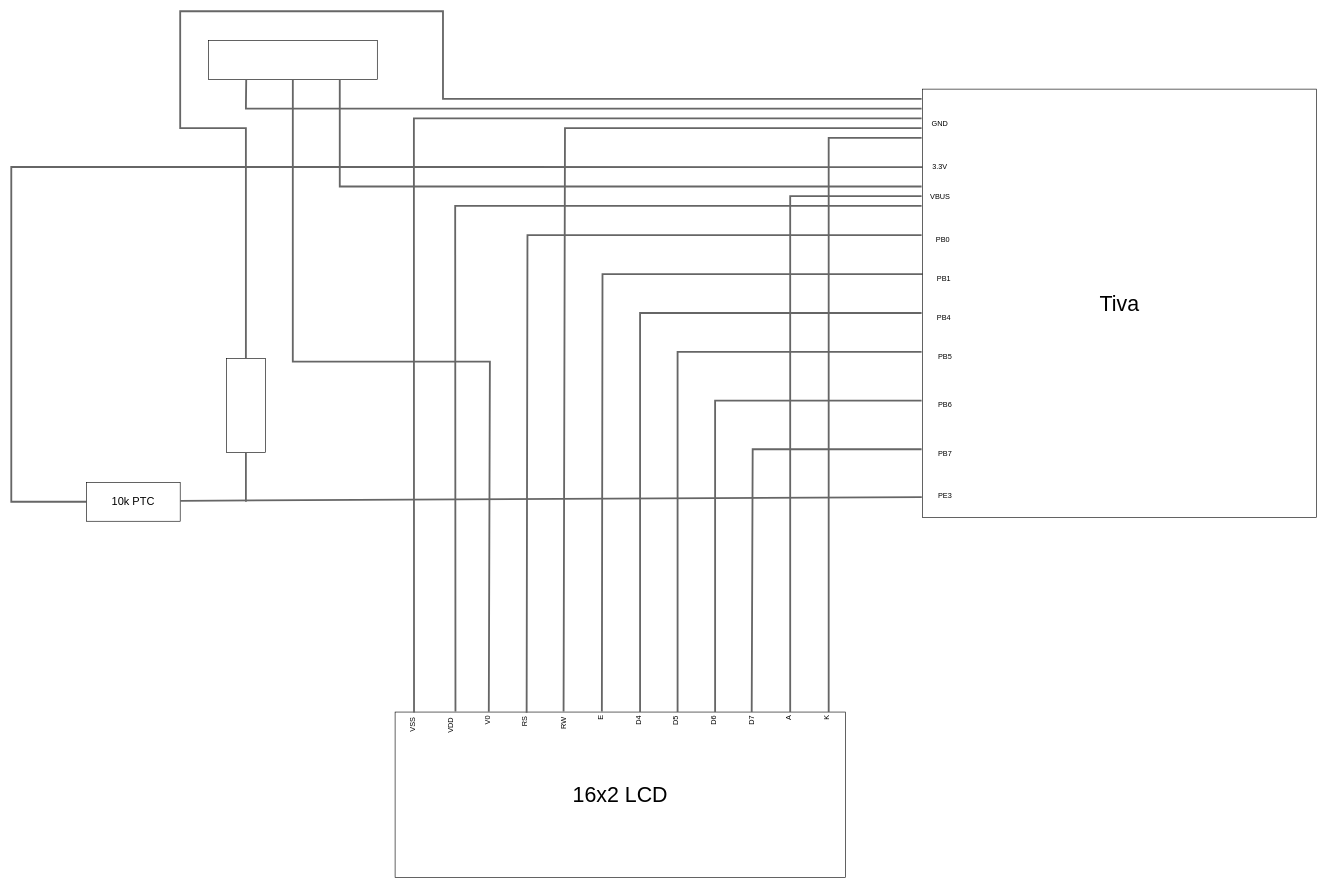
Image size: 1327x888. Some labels were removed from this diagram. Here are the shapes that lost their labels. From the top down, the centre of each, then its label:
the point at 292,59: 10k Pot
the point at 245,405: 10k Res
